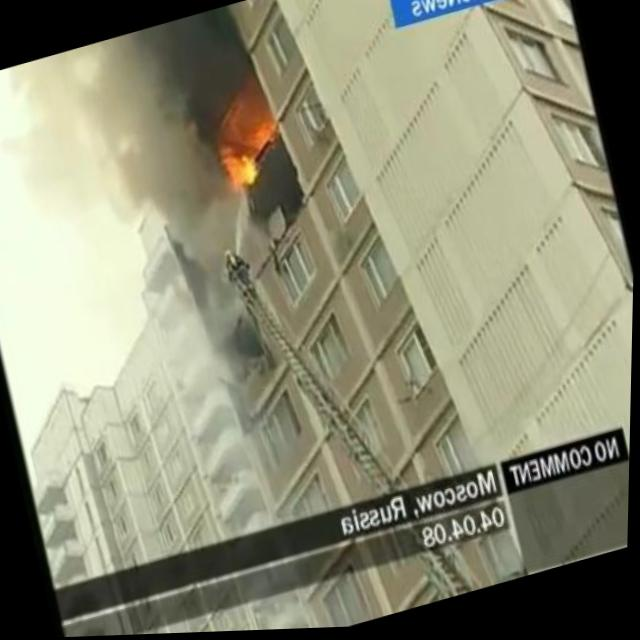fire: (210, 127, 269, 204)
